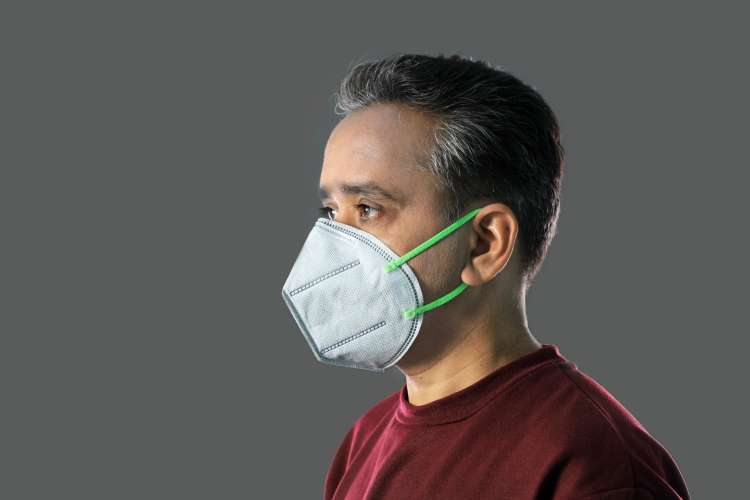with_mask: (292, 66, 565, 411)
